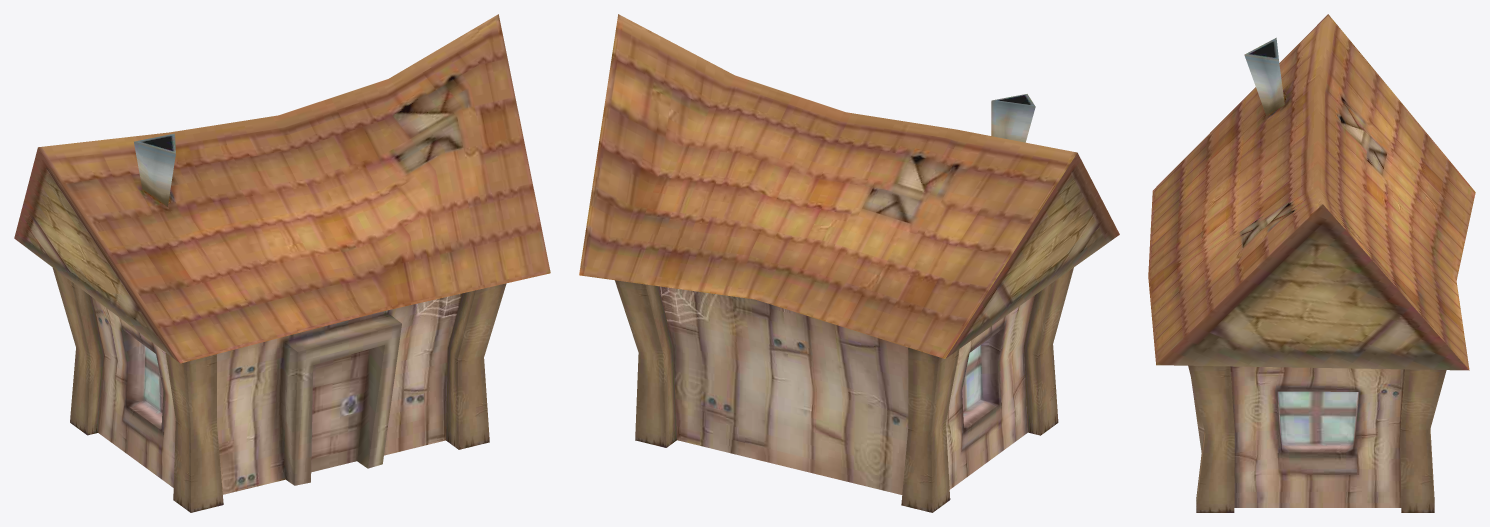
Rendered from House2.gltf.
3 renders of one model, left to right at view 1: azimuth 30°, elevation 25°; view 2: azimuth 150°, elevation 25°; view 3: azimuth 270°, elevation 25°, orthographic. The views are drawn at different scales.
Parts seen in each view (by area): view 1: house; view 2: house; view 3: house.
Part boxes in pixels (x1,y1,x2,y2): house: [14, 14, 550, 512]; house: [579, 14, 1119, 512]; house: [1148, 14, 1475, 512].
Size of the model in its own units: 9.57 by 7.21 by 6.22.
Materials: 1 (1 with a texture image).
